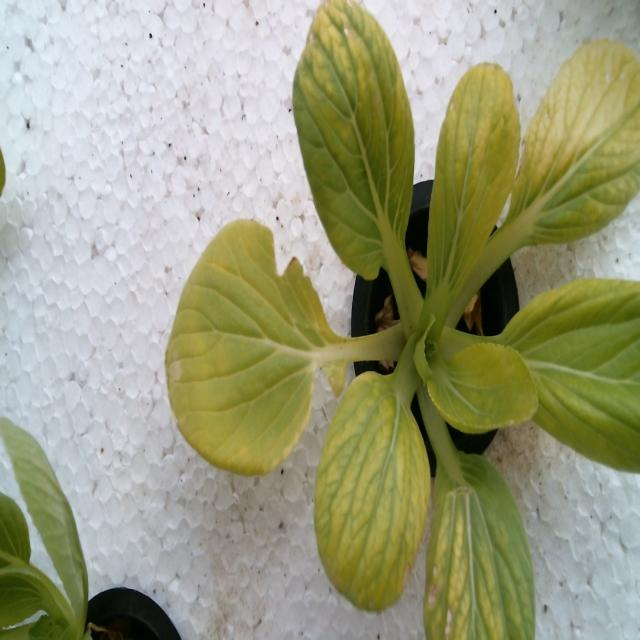pakcoy_tidak_sehat: (160, 2, 640, 640)
